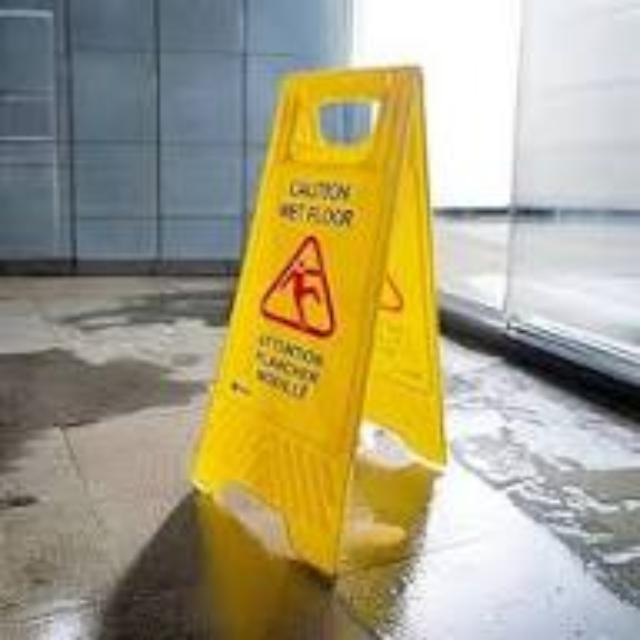tron truot: (190, 70, 443, 573)
